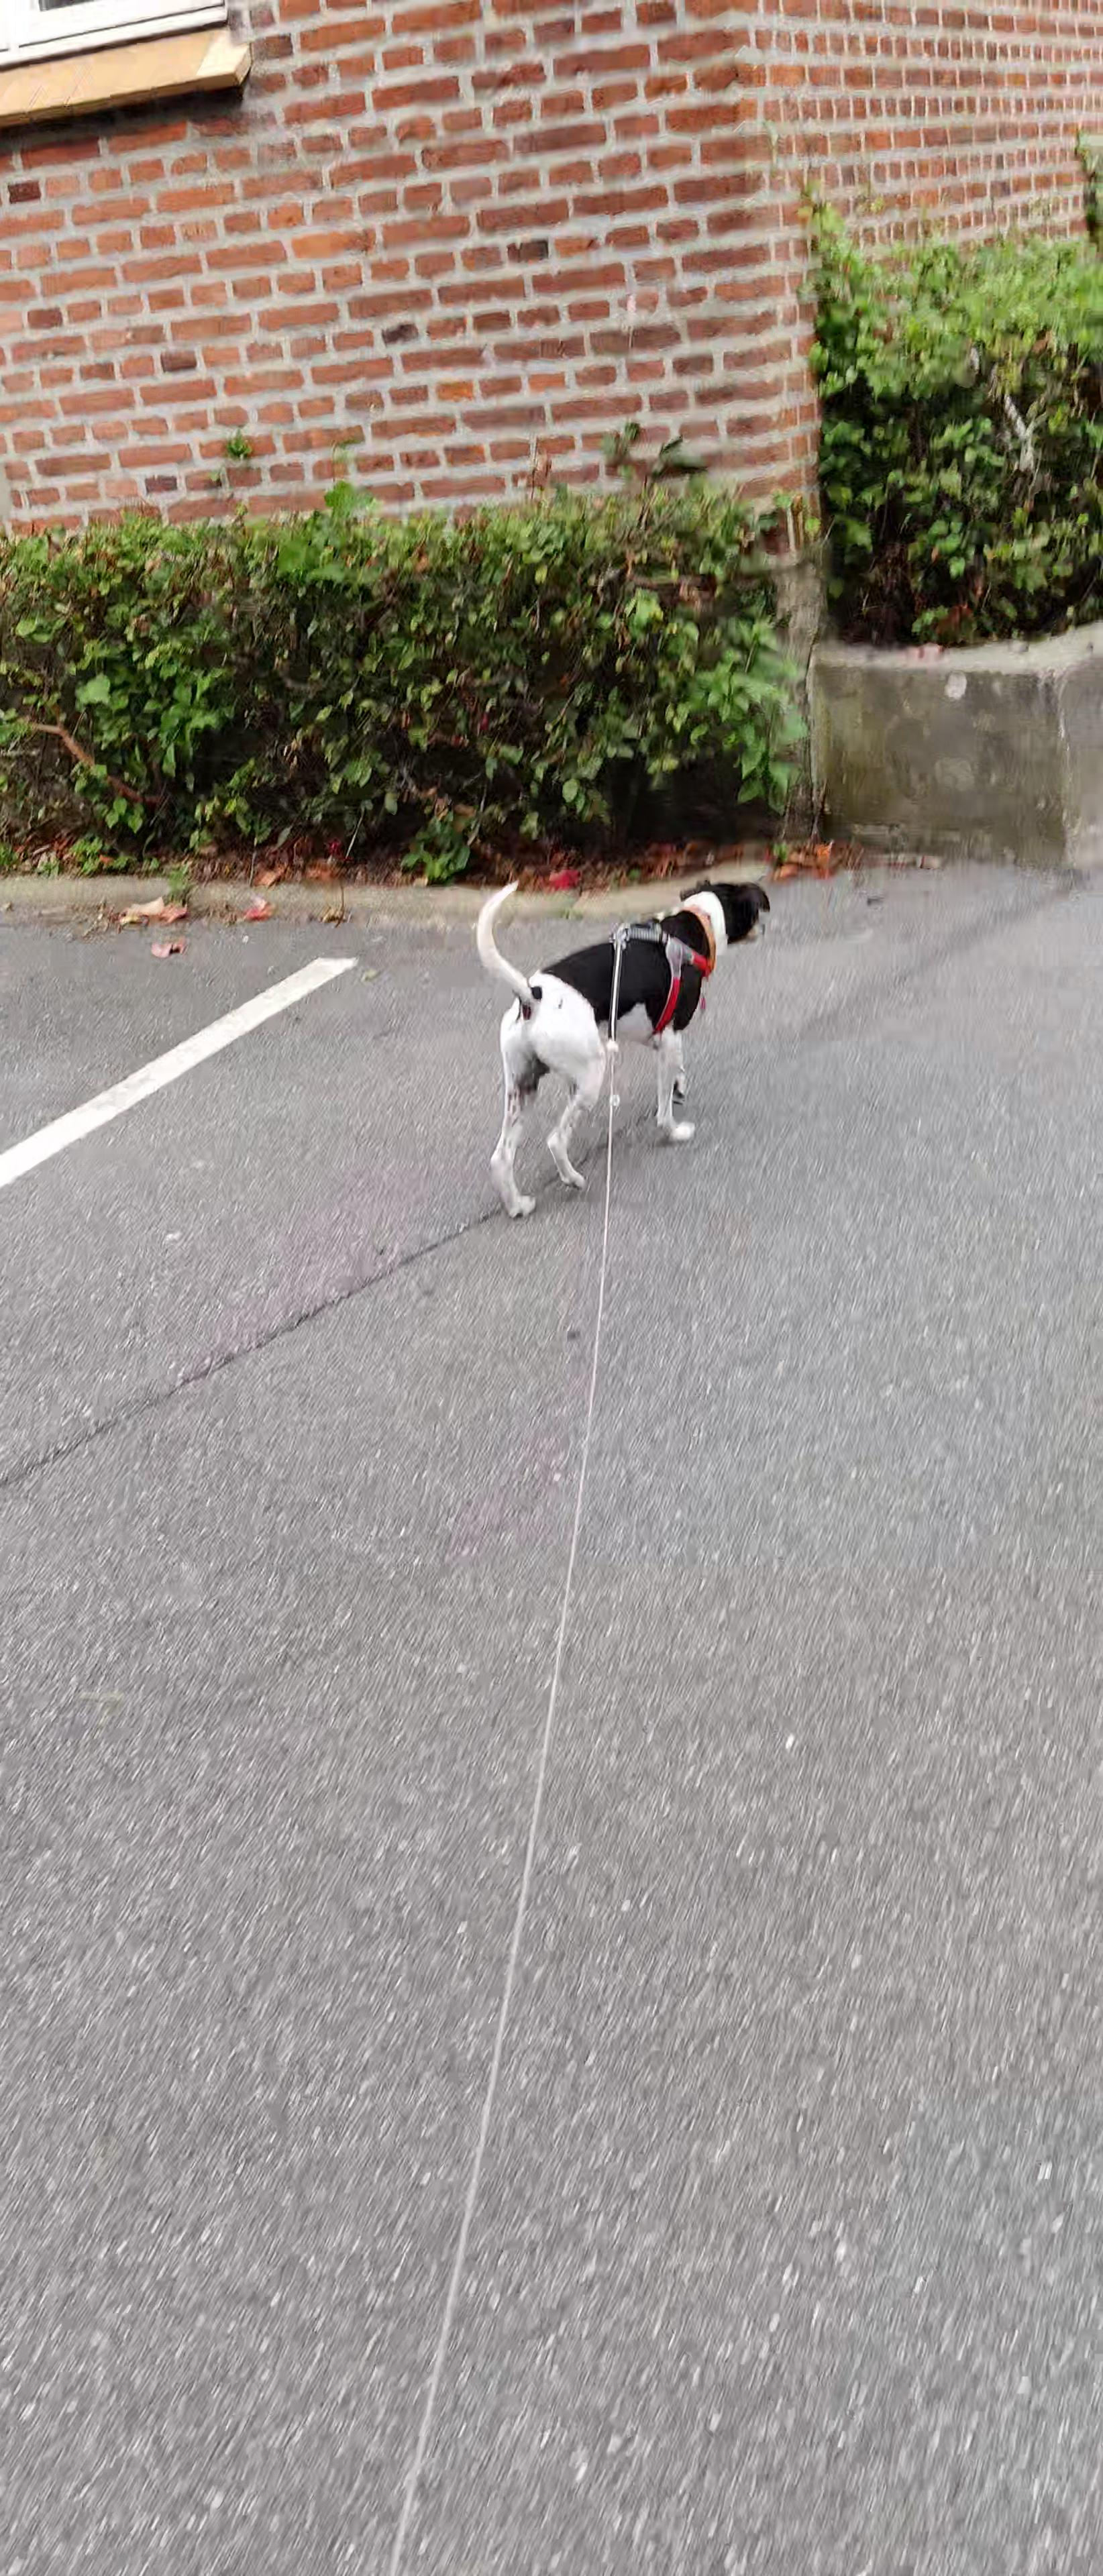Dog: (470, 867, 778, 1226)
